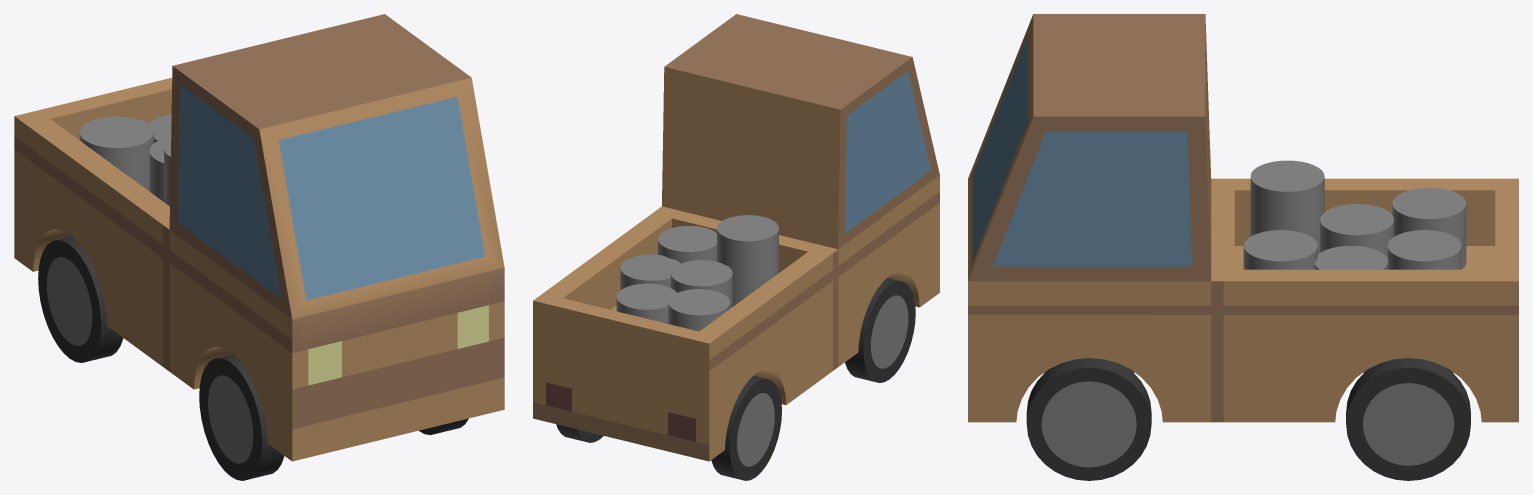
The model's file is car.gltf.
3 views of the same model, side by side, from view 1: azimuth 30°, elevation 25°; view 2: azimuth 150°, elevation 25°; view 3: azimuth 270°, elevation 25° (orthographic). The views are drawn at different scales.
Parts seen in each view (by area): view 1: Cube, Cylinder.003, Cylinder.004, Cylinder.006, Cylinder.005; view 2: Cube, Cylinder.004, Cylinder.003, Cylinder.009, Cylinder.006, Cylinder, Cylinder.005, Cylinder.007, Cylinder.008, Cylinder.002; view 3: Cube, Cylinder.001, Cylinder.002, Cylinder.009, Cylinder.006, Cylinder.005, Cylinder.007, Cylinder, Cylinder.008.
Part boxes in pixels (<box>): Cube: <box>14,14,504,461</box>; Cylinder.003: <box>38,236,123,362</box>; Cylinder.004: <box>199,354,284,480</box>; Cylinder.006: <box>79,116,154,191</box>; Cylinder.005: <box>149,136,171,201</box>; Cube: <box>533,14,939,461</box>; Cylinder.004: <box>845,278,915,382</box>; Cylinder.003: <box>711,376,781,480</box>; Cylinder.009: <box>717,215,778,306</box>; Cylinder.006: <box>668,289,729,331</box>; Cylinder: <box>658,226,716,263</box>; Cylinder.005: <box>670,260,732,308</box>; Cylinder.007: <box>616,283,676,323</box>; Cylinder.008: <box>620,254,680,289</box>; Cylinder.002: <box>556,424,603,442</box>; Cube: <box>968,14,1518,422</box>; Cylinder.001: <box>1026,358,1151,480</box>; Cylinder.002: <box>1346,358,1470,480</box>; Cylinder.009: <box>1250,160,1324,254</box>; Cylinder.006: <box>1392,188,1466,269</box>; Cylinder.005: <box>1320,204,1393,257</box>; Cylinder.007: <box>1387,230,1461,269</box>; Cylinder: <box>1243,230,1317,269</box>; Cylinder.008: <box>1314,245,1388,269</box>.
Bounding box in the file's own units: 2 × 3.31 × 4.53.
